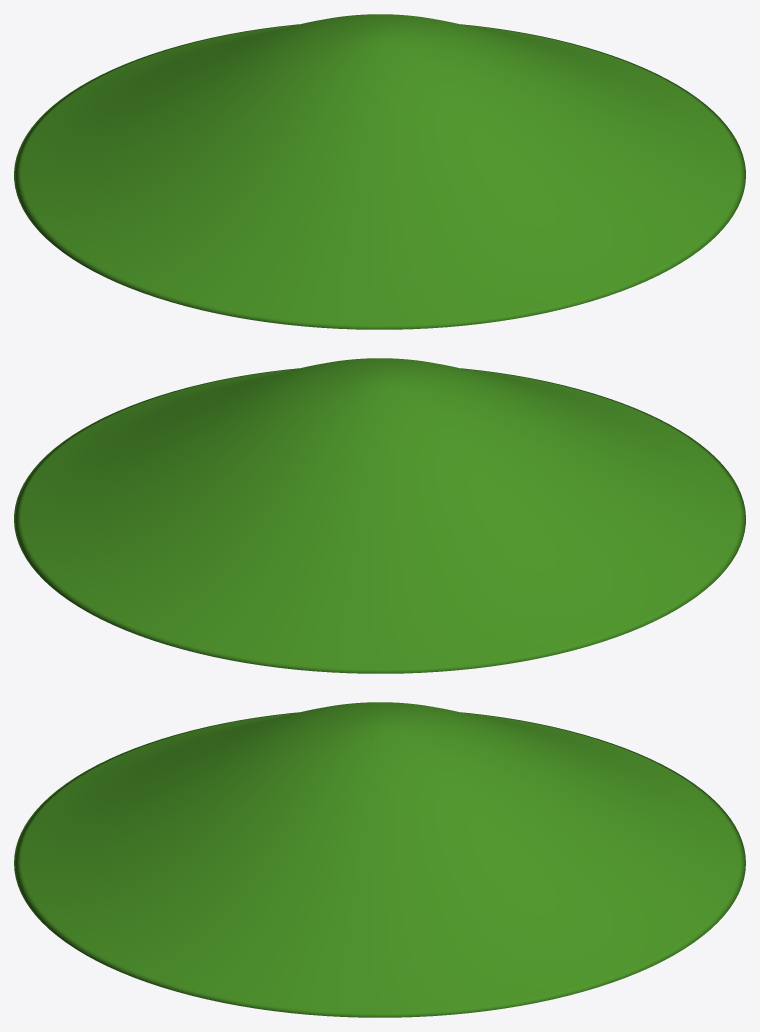
The model's file is hill_grass.fbx.
The picture shows the model from 3 angles, top to bottom: view 1: azimuth 30°, elevation 25°; view 2: azimuth 150°, elevation 25°; view 3: azimuth 270°, elevation 25°; orthographic projection.
Parts seen in each view (by area): view 1: Circle; view 2: Circle; view 3: Circle.
Part boxes in pixels (bbox=[...]): Circle: bbox=[14, 14, 745, 329]; Circle: bbox=[14, 358, 745, 673]; Circle: bbox=[14, 702, 745, 1017].
Bounding box in the file's own units: 925 × 199 × 925.
